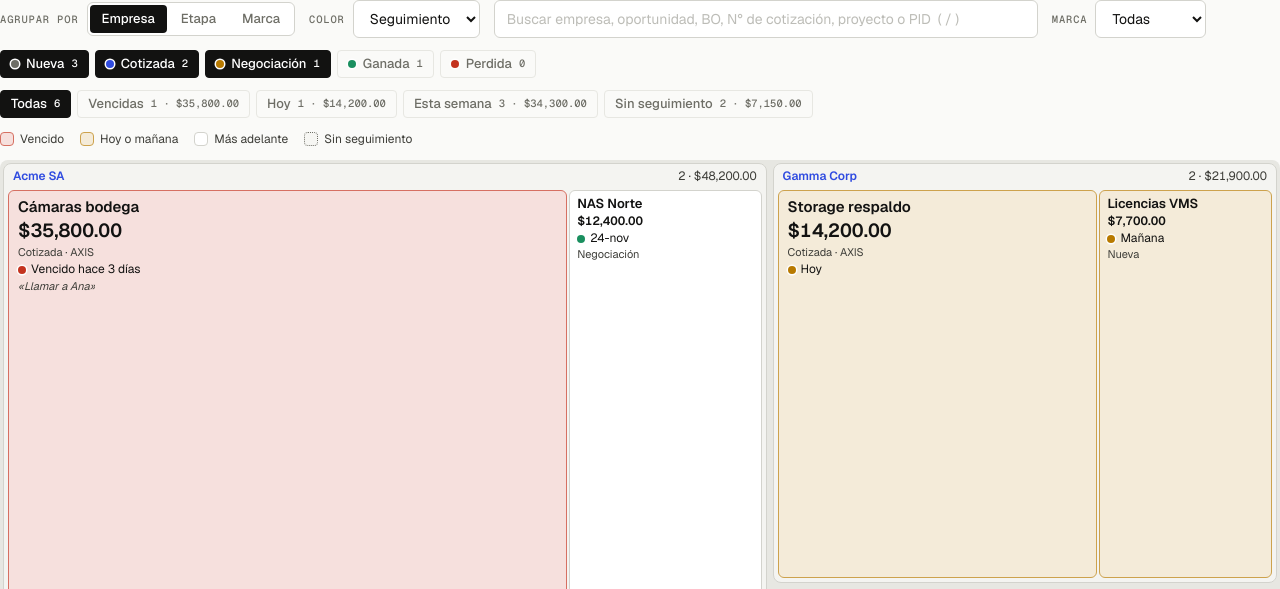
Scenario: MapaTab › la búsqueda filtra por empresa u oportunidad y se limpia sola
Later steps or results of the test are not shown.
Replace the text in the search field named "Buscar en el mapa" with "licencias" at (766, 19), box [494,0,1038,38]
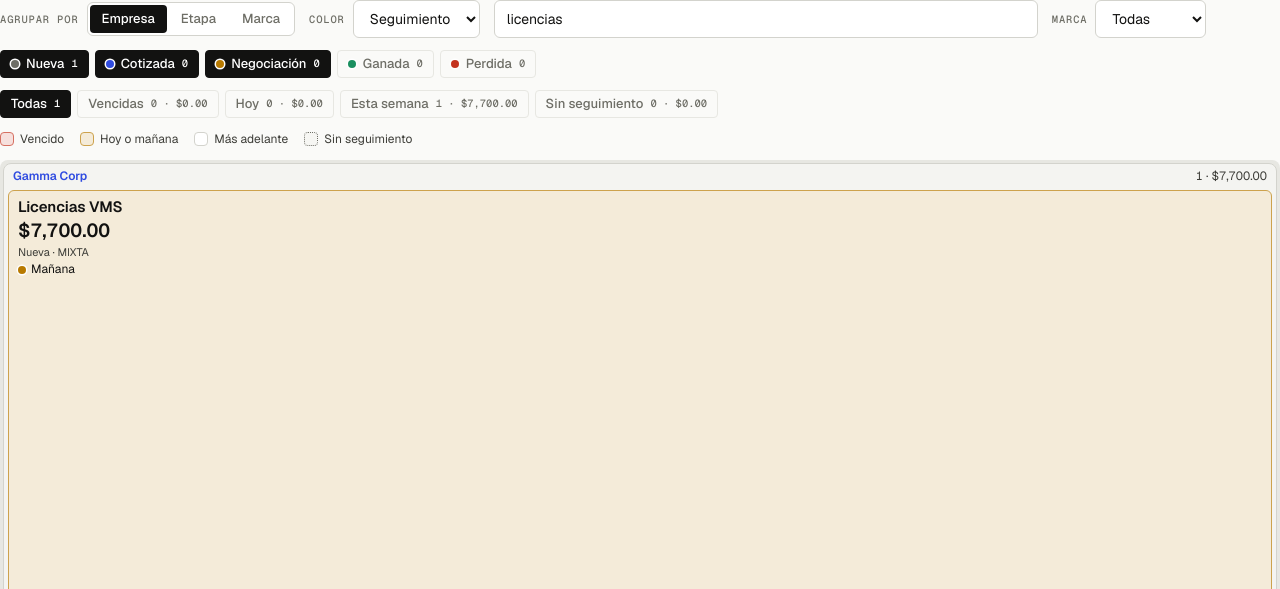
Clear the search field named "Buscar en el mapa" at (766, 19), box [494,0,1038,38]
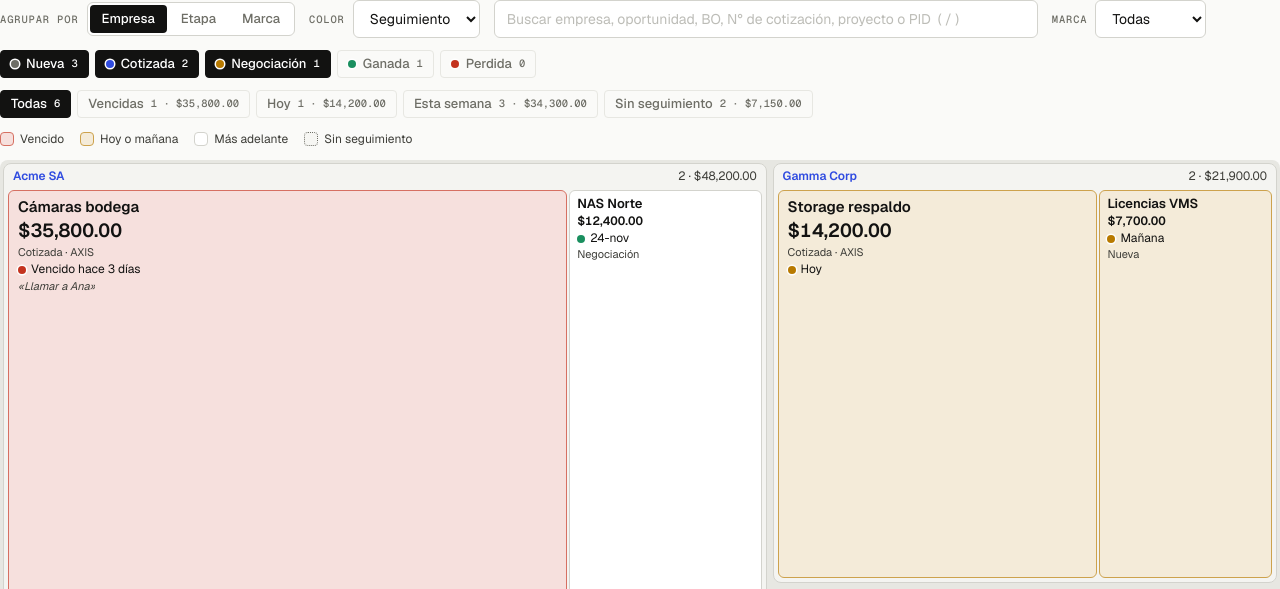
Replace the text in the search field named "Buscar en el mapa" with "zzzz" at (766, 19), box [494,0,1038,38]
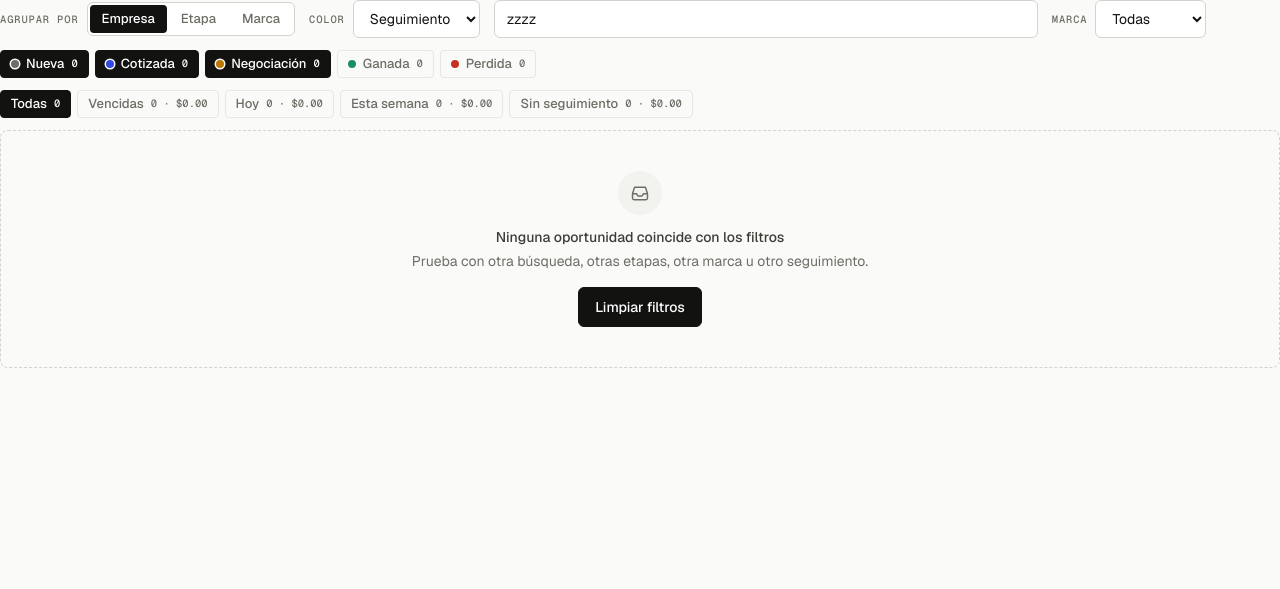
Result: the text "Ninguna oportunidad coincide con los filtros" is shown at [496,227,784,247]
